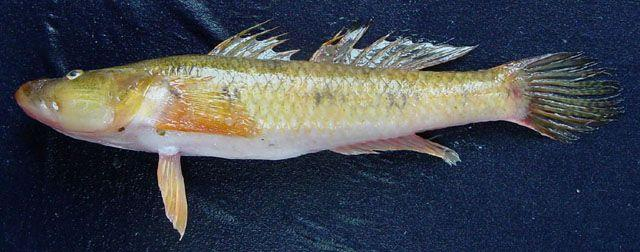Goby: (17, 18, 624, 248)
